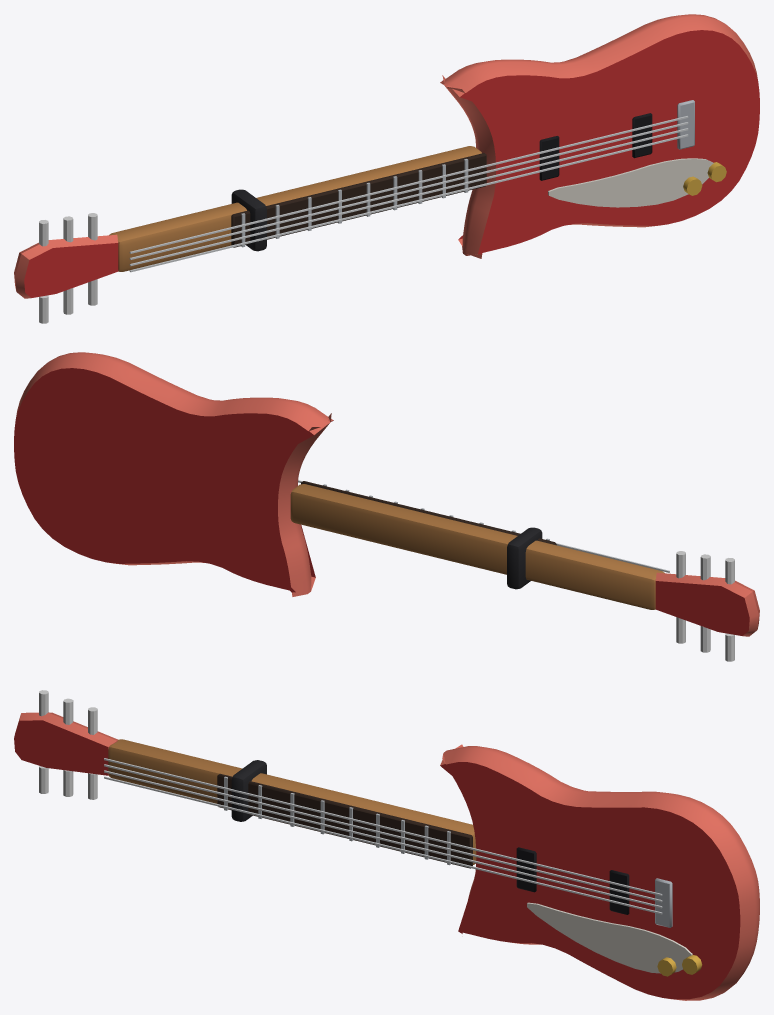
Rendered from sword_guitar.glb.
3 views of the same model, one above another, from view 1: azimuth 30°, elevation 25°; view 2: azimuth 150°, elevation 25°; view 3: azimuth 330°, elevation 25° (orthographic).
Visible parts, largest first — view 1: sword_guitar; view 2: sword_guitar; view 3: sword_guitar.
Boxes of the visible parts, left/top/right/bottom form: sword_guitar: left=14, top=14, right=759, bottom=323; sword_guitar: left=14, top=352, right=759, bottom=661; sword_guitar: left=14, top=690, right=759, bottom=1000.
Bounding box in the file's own units: 1.52 × 0.3969 × 0.097.
